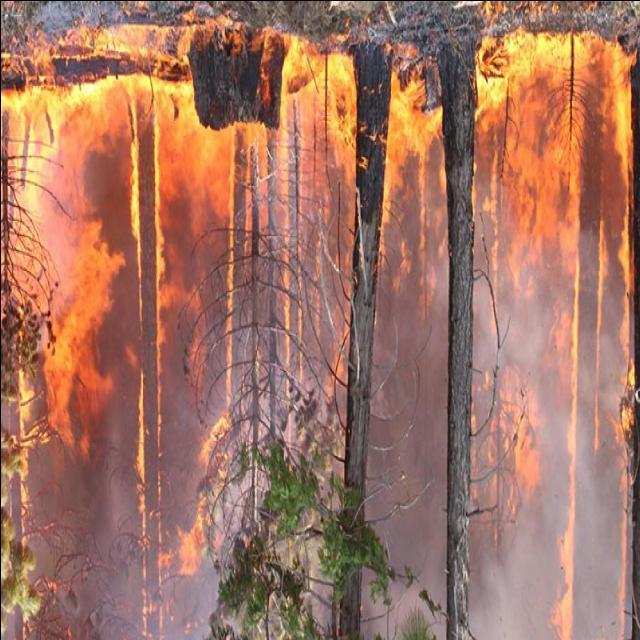Fire: (0, 33, 633, 637)
